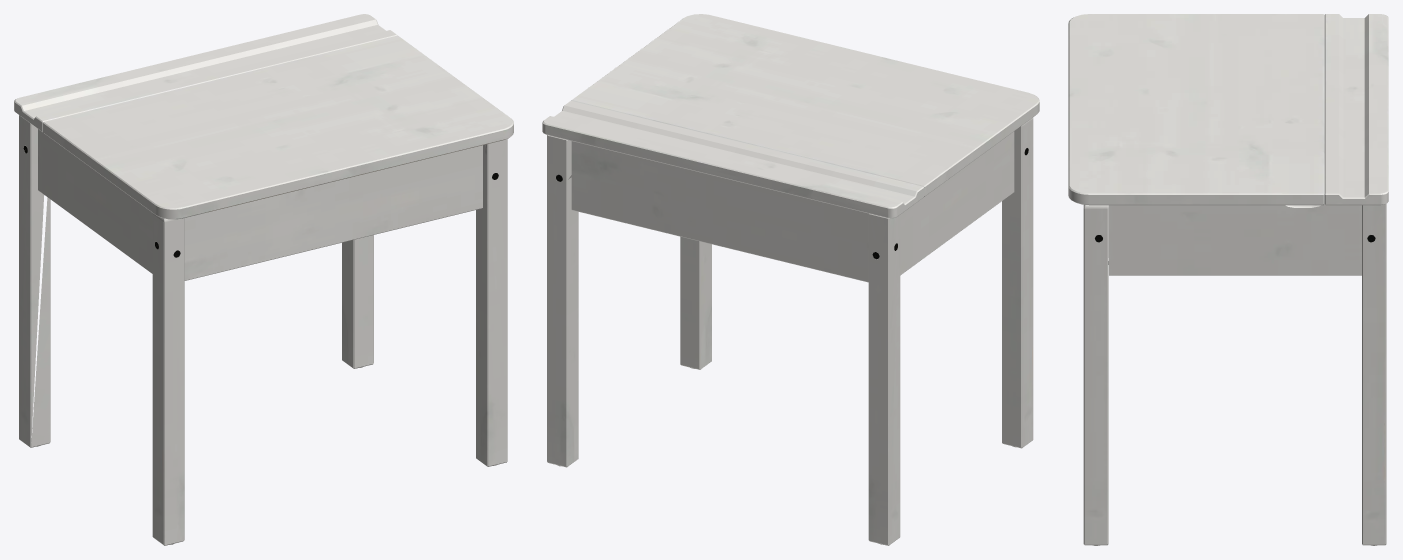
File: 08 - SUNDVIK - 兒童書桌, 白色, 60x45 公分 IKEA 線上購物.glb
3 renders of one model, left to right at view 1: azimuth 30°, elevation 25°; view 2: azimuth 150°, elevation 25°; view 3: azimuth 270°, elevation 25°, orthographic. The views are drawn at different scales.
Parts seen in each view (by area): view 1: model; view 2: model; view 3: model.
Part boxes in pixels (bbox=[...]): model: bbox=[14, 14, 513, 545]; model: bbox=[542, 14, 1039, 545]; model: bbox=[1068, 14, 1388, 545].
Size of the model in its own units: 0.6 by 0.554 by 0.4499.
Materials: 1 (1 with a texture image).
